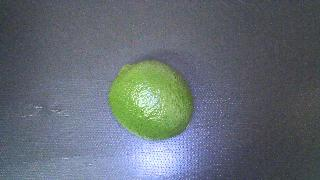EXPORTACION: (109, 60, 193, 140)
